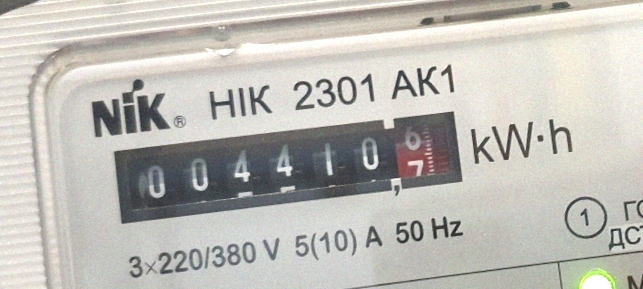0: (142, 160, 168, 201), (357, 134, 381, 172), (187, 153, 209, 193)
1: (318, 139, 336, 178)
4: (270, 140, 297, 181), (227, 145, 253, 185)
6: (403, 124, 423, 152)
7: (405, 157, 426, 178)
screen: (99, 94, 476, 238)
